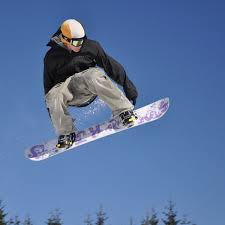snowboard: (25, 97, 171, 162)
